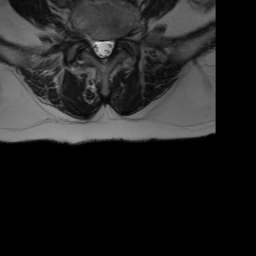CCS_normal: (99, 31, 107, 69)
LFS_severe_stenosis: (116, 28, 124, 50)
LLS_normal: (107, 31, 116, 63)
RFS_normal: (81, 23, 91, 51)
RLS_normal: (91, 31, 99, 62)
